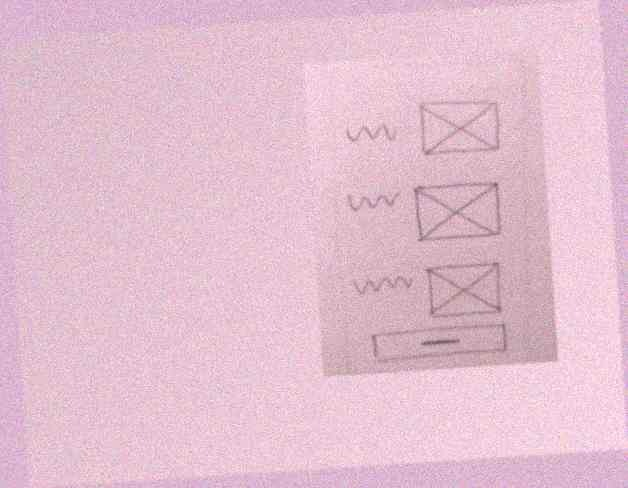button: (362, 320, 515, 369)
image: (412, 88, 507, 165), (410, 176, 506, 248), (422, 259, 508, 321)
text: (348, 270, 420, 303), (343, 118, 399, 153), (344, 186, 402, 216)
